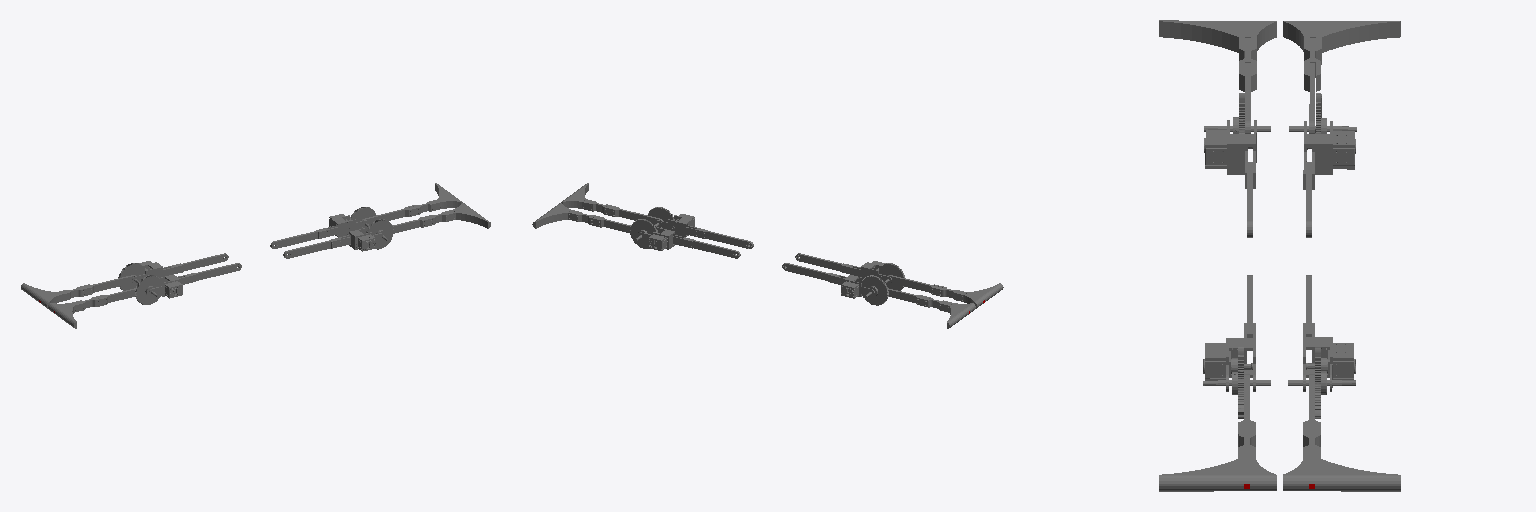
URDF robot description (quadruped):
<?xml version ="1.0" encoding="utf-8"?>

<robot name="quadruped" >


  <link name="dummy">
  </link>

  <material name="gray">
    <color rgba="0.5 0.5 0.5 1.0"/>
  </material>

  <joint name="dummy_joint" type="fixed">
     <parent link="dummy"/>
     <child link="body"/>
  </joint>

  <link name="body">
    <inertial>
      <mass value="1" />
      <inertia ixx="1" ixy="0"  ixz="0"
               iyy="1" iyz="0"
               izz="1" />
    </inertial>
    <visual>
      <origin rpy="1.57 0 1.57" xyz="0 0 0"/>
      <geometry>
        <mesh filename="package://quadruped_description/meshes/frame_aluminum_motor_case.stl"/>
      </geometry>
      <material name="gray"/>
    </visual>
    <collision>
      <origin
        xyz="0 0 0"
        rpy="1.57 0 1.57" />
      <geometry>
        <mesh
          filename="package://quadruped_description/meshes/frame_aluminum_motor_case.stl" />
      </geometry>
    </collision>
  </link>

  <link name="front_left_u">
    <inertial>
      <mass value="1" />
      <inertia ixx="1" ixy="0"  ixz="0"
               iyy="1" iyz="0"
               izz="1" />
    </inertial>
    <visual>
      <origin rpy="1.57 0 1.57" xyz="0 0 0"/>
      <geometry>
        <mesh filename="package://quadruped_description/meshes/joint_gear_upper_assembly.stl"/>
      </geometry>
      <material name="gray"/>
    </visual>
    <collision>
      <origin
        xyz="0 0 0"
        rpy="1.57 0 1.57" />
      <geometry>
        <mesh
          filename="package://quadruped_description/meshes/joint_gear_upper_assembly.stl" />
      </geometry>
    </collision>
  </link>

  <link name="front_right_u">
    <inertial>
      <mass value="1" />
      <inertia ixx="1" ixy="0"  ixz="0"
               iyy="1" iyz="0"
               izz="1" />
    </inertial>
    <visual>
      <origin rpy="1.57 3.14 1.57" xyz="0 0 0"/>
      <geometry>
        <mesh filename="package://quadruped_description/meshes/joint_gear_upper_assembly.stl"/>
      </geometry>
      <material name="gray"/>
    </visual>
    <collision>
      <origin
        xyz="0 0 0"
        rpy="1.57 3.14 1.57" />
      <geometry>
        <mesh
          filename="package://quadruped_description/meshes/joint_gear_upper_assembly.stl" />
      </geometry>
    </collision>
  </link>

  <link name="back_left_u">
    <inertial>
      <mass value="1" />
      <inertia ixx="1" ixy="0"  ixz="0"
               iyy="1" iyz="0"
               izz="1" />
    </inertial>
    <visual>
      <origin rpy="1.57 3.14 1.57" xyz="0 0 0"/>
      <geometry>
        <mesh filename="package://quadruped_description/meshes/joint_gear_upper_assembly.stl"/>
      </geometry>
      <material name="gray"/>
    </visual>
    <collision>
      <origin
        xyz="0 0 0"
        rpy="1.57 3.14 1.57" />
      <geometry>
        <mesh
          filename="package://quadruped_description/meshes/joint_gear_upper_assembly.stl" />
      </geometry>
    </collision>
  </link>

  <link name="back_right_u">
    <inertial>
      <mass value="1" />
      <inertia ixx="1" ixy="0"  ixz="0"
               iyy="1" iyz="0"
               izz="1" />
    </inertial>
    <visual>
      <origin rpy="1.57 0 1.57" xyz="0 0 0"/>
      <geometry>
        <mesh filename="package://quadruped_description/meshes/joint_gear_upper_assembly.stl"/>
      </geometry>
      <material name="gray"/>
    </visual>
    <collision>
      <origin
        xyz="0 0 0"
        rpy="1.57 0 1.57" />
      <geometry>
        <mesh
          filename="package://quadruped_description/meshes/joint_gear_upper_assembly.stl" />
      </geometry>
    </collision>
  </link>

  <link name="front_left_d">
    <inertial>
      <mass value="1" />
      <inertia ixx="1" ixy="0"  ixz="0"
               iyy="1" iyz="0"
               izz="1" />
    </inertial>
    <visual>
      <origin rpy="1.57 0 1.57" xyz="0 0 0"/>
      <geometry>
        <mesh filename="package://quadruped_description/meshes/Assembly_lower_link_v2.stl"/>
      </geometry>
      <material name="gray"/>
    </visual>
    <collision>
      <origin
        xyz="0 0 0"
        rpy="1.57 0 1.57" />
      <geometry>
        <mesh
          filename="package://quadruped_description/meshes/Assembly_lower_link_v2.stl" />
      </geometry>
    </collision>
  </link>
  <joint name="front_left_foot" type="fixed">
    <origin rpy="0 0 0" xyz="0.41 0 0"/>
    <parent link="front_left_d"/>
    <child link="front_left_foot"/>
  </joint>
  <link name="front_left_foot">
    <visual>
      <origin rpy="0 0 0" xyz="0 0 0"/>
      <geometry>
        <box size="0.01 0.01 0.01"/>
      </geometry>
      <material name="">
        <color rgba="0.8 0.0 0.0 1.0"/>
      </material>
    </visual>
    <inertial>
      <origin rpy="0 0 0" xyz="0.0 0.0 0.0"/>
      <mass value="0.001"/>
      <inertia ixx="1.0e-06" ixy="0.0" ixz="0.0" iyy="1.0e-06" iyz="0.0" izz="1.0e-06"/>
    </inertial>
  </link>



  <link name="front_right_d">
    <inertial>
      <mass value="1" />
      <inertia ixx="1" ixy="0"  ixz="0"
               iyy="1" iyz="0"
               izz="1" />
    </inertial>
    <visual>
      <origin rpy="-1.57 0 -1.57" xyz="0 0 0"/>
      <geometry>
        <mesh filename="package://quadruped_description/meshes/Assembly_lower_link_v2.stl"/>
      </geometry>
      <material name="gray"/>
    </visual>
    <collision>
      <origin
        xyz="0 0 0"
        rpy="-1.57 0 -1.57" />
      <geometry>
        <mesh
          filename="package://quadruped_description/meshes/Assembly_lower_link_v2.stl" />
      </geometry>
    </collision>
  </link>
  <joint name="front_right_foot" type="fixed">
    <origin rpy="0 0 0" xyz="0.41 0 0"/>
    <parent link="front_right_d"/>
    <child link="front_right_foot"/>
  </joint>
  <link name="front_right_foot">
    <visual>
      <origin rpy="0 0 0" xyz="0 0 0"/>
      <geometry>
        <box size="0.01 0.01 0.01"/>
      </geometry>
      <material name="">
        <color rgba="0.8 0.0 0.0 1.0"/>
      </material>
    </visual>
    <inertial>
      <origin rpy="0 0 0" xyz="0.0 0.0 0.0"/>
      <mass value="0.001"/>
      <inertia ixx="1.0e-06" ixy="0.0" ixz="0.0" iyy="1.0e-06" iyz="0.0" izz="1.0e-06"/>
    </inertial>
  </link>

  <link name="back_left_d">
    <inertial>
      <mass value="1" />
      <inertia ixx="1" ixy="0"  ixz="0"
               iyy="1" iyz="0"
               izz="1" />
    </inertial>
    <visual>
      <origin rpy="-1.57 0 -1.57" xyz="0 0 0"/>
      <geometry>
        <mesh filename="package://quadruped_description/meshes/Assembly_lower_link_v2.stl"/>
      </geometry>
      <material name="gray"/>
    </visual>
    <collision>
      <origin
        xyz="0 0 0"
        rpy="-1.57 0 -1.57" />
      <geometry>
        <mesh
          filename="package://quadruped_description/meshes/Assembly_lower_link_v2.stl" />
      </geometry>
    </collision>
  </link>
  <joint name="back_left_foot" type="fixed">
    <origin rpy="0 0 0" xyz="0.41 0 0"/>
    <parent link="back_left_d"/>
    <child link="back_left_foot"/>
  </joint>
  <link name="back_left_foot">
    <visual>
      <origin rpy="0 0 0" xyz="0 0 0"/>
      <geometry>
        <box size="0.01 0.01 0.01"/>
      </geometry>
      <material name="">
        <color rgba="0.8 0.0 0.0 1.0"/>
      </material>
    </visual>
    <inertial>
      <origin rpy="0 0 0" xyz="0.0 0.0 0.0"/>
      <mass value="0.001"/>
      <inertia ixx="1.0e-06" ixy="0.0" ixz="0.0" iyy="1.0e-06" iyz="0.0" izz="1.0e-06"/>
    </inertial>
  </link>

  <link name="back_right_d">
    <inertial>
      <mass value="1" />
      <inertia ixx="1" ixy="0"  ixz="0"
               iyy="1" iyz="0"
               izz="1" />
    </inertial>
    <visual>
      <origin rpy="1.57 0 1.57" xyz="0 0 0"/>
      <geometry>
        <mesh filename="package://quadruped_description/meshes/Assembly_lower_link_v2.stl"/>
      </geometry>
      <material name="gray"/>
    </visual>
    <collision>
      <origin
        xyz="0 0 0"
        rpy="1.57 0 1.57" />
      <geometry>
        <mesh
          filename="package://quadruped_description/meshes/Assembly_lower_link_v2.stl" />
      </geometry>
    </collision>
  </link>
  <joint name="back_right_foot" type="fixed">
    <origin rpy="0 0 0" xyz="0.41 0 0"/>
    <parent link="back_right_d"/>
    <child link="back_right_foot"/>
  </joint>
  <link name="back_right_foot">
    <visual>
      <origin rpy="0 0 0" xyz="0 0 0"/>
      <geometry>
        <box size="0.01 0.01 0.01"/>
      </geometry>
      <material name="">
        <color rgba="0.8 0.0 0.0 1.0"/>
      </material>
    </visual>
    <inertial>
      <origin rpy="0 0 0" xyz="0.0 0.0 0.0"/>
      <mass value="0.001"/>
      <inertia ixx="1.0e-06" ixy="0.0" ixz="0.0" iyy="1.0e-06" iyz="0.0" izz="1.0e-06"/>
    </inertial>
  </link>

  <joint name="front_left_joint1" type="revolute">
    <limit effort="1000.0" lower="-3.14" upper="3.14" velocity="0.5"/>
    <parent link="body"/>
    <child link="front_left_u"/>
    <origin xyz="0.11 0.05 0" rpy="0 0 0" />
    <axis xyz="0 1 0" />
  </joint>

  <joint name="front_right_joint1" type="revolute">
    <limit effort="1000.0" lower="-3.14" upper="3.14" velocity="0.5"/>
    <parent link="body"/>
    <child link="front_right_u"/>
    <origin xyz="0.11 -0.05 0" rpy="0 0 0" />
    <axis xyz="0 1 0" />
  </joint>

  <joint name="back_left_joint1" type="revolute">
    <limit effort="1000.0" lower="-3.14" upper="3.14" velocity="0.5"/>
    <parent link="body"/>
    <child link="back_left_u"/>
    <origin xyz="-0.11 0.05 0" rpy="0 0 3.14" />
    <axis xyz="0 1 0" />
  </joint>

  <joint name="back_right_joint1" type="revolute">
    <limit effort="1000.0" lower="-3.14" upper="3.14" velocity="0.5"/>
    <parent link="body"/>
    <child link="back_right_u"/>
    <origin xyz="-0.11 -0.05 0" rpy="0 0 3.14" />
    <axis xyz="0 1 0" />
  </joint>

  <joint name="front_left_joint2" type="revolute">
    <limit effort="1000.0" lower="-3.14" upper="3.14" velocity="0.5"/>
    <parent link="front_left_u"/>
    <child link="front_left_d"/>
    <origin xyz="0.4 0.005 0" rpy="0 0 0" />
    <axis xyz="0 1 0" />
  </joint>

  <joint name="front_right_joint2" type="revolute">
    <limit effort="1000.0" lower="-3.14" upper="3.14" velocity="0.5"/>
    <parent link="front_right_u"/>
    <child link="front_right_d"/>
    <origin xyz="0.4 -0.005 0" rpy="0 0 0" />
    <axis xyz="0 1 0" />
  </joint>

  <joint name="back_left_joint2" type="revolute">
    <limit effort="1000.0" lower="-3.14" upper="3.14" velocity="0.5"/>
    <parent link="back_left_u"/>
    <child link="back_left_d"/>
    <origin xyz="0.4 -0.005 0" rpy="0 0 0" />
    <axis xyz="0 1 0" />
  </joint>

  <joint name="back_right_joint2" type="revolute">
    <limit effort="1000.0" lower="-3.14" upper="3.14" velocity="0.5"/>
    <parent link="back_right_u"/>
    <child link="back_right_d"/>
    <origin xyz="0.4 0.005 0" rpy="0 0 0" />
    <axis xyz="0 1 0" />
  </joint>

  <!-- <joint name="front_right_joint1" type="revolute">
    <limit effort="1000.0" lower="-3.14" upper="3.14" velocity="0.5"/>
    <parent link="body"/>
    <child link="front_left_u"/>
    <origin xyz="0.11 0.05 0" rpy="0 0 0" />
    <axis xyz="0 1 0" />
  </joint>

  <joint name="front_left_joint1" type="revolute">
    <limit effort="1000.0" lower="-3.14" upper="3.14" velocity="0.5"/>
    <parent link="body"/>
    <child link="front_right_u"/>
    <origin xyz="0.11 -0.05 0" rpy="0 0 0" />
    <axis xyz="0 1 0" />
  </joint>

  <joint name="back_left_joint1" type="revolute">
    <limit effort="1000.0" lower="-3.14" upper="3.14" velocity="0.5"/>
    <parent link="body"/>
    <child link="back_left_u"/>
    <origin xyz="-0.11 0.05 0" rpy="0 0 3.14" />
    <axis xyz="0 1 0" />
  </joint>

  <joint name="back_right_joint1" type="revolute">
    <limit effort="1000.0" lower="-3.14" upper="3.14" velocity="0.5"/>
    <parent link="body"/>
    <child link="back_right_u"/>
    <origin xyz="-0.11 -0.05 0" rpy="0 0 3.14" />
    <axis xyz="0 1 0" />
  </joint>

  <joint name="front_right_joint2" type="revolute">
    <limit effort="1000.0" lower="-3.14" upper="3.14" velocity="0.5"/>
    <parent link="front_left_u"/>
    <child link="front_left_d"/>
    <origin xyz="0.4 0.005 0" rpy="0 0 0" />
    <axis xyz="0 1 0" />
  </joint>

  <joint name="front_left_joint2" type="revolute">
    <limit effort="1000.0" lower="-3.14" upper="3.14" velocity="0.5"/>
    <parent link="front_right_u"/>
    <child link="front_right_d"/>
    <origin xyz="0.4 -0.005 0" rpy="0 0 0" />
    <axis xyz="0 1 0" />
  </joint>

  <joint name="back_left_joint2" type="revolute">
    <limit effort="1000.0" lower="-3.14" upper="3.14" velocity="0.5"/>
    <parent link="back_left_u"/>
    <child link="back_left_d"/>
    <origin xyz="0.4 -0.005 0" rpy="0 0 0" />
    <axis xyz="0 1 0" />
  </joint>

  <joint name="back_right_joint2" type="revolute">
    <limit effort="1000.0" lower="-3.14" upper="3.14" velocity="0.5"/>
    <parent link="back_right_u"/>
    <child link="back_right_d"/>
    <origin xyz="0.4 0.005 0" rpy="0 0 0" />
    <axis xyz="0 1 0" />
  </joint> -->

  <!-- ///////////////////////////////////////////////////////////////////////////////////////////////////////////////////// -->
  <!-- Transmissions for ROS Control -->

  <transmission name="tran1">
    <type>transmission_interface/SimpleTransmission</type>
    <joint name="front_right_joint1">
      <hardwareInterface>hardware_interface/PositionJointInterface</hardwareInterface>
    </joint>
    <actuator name="motor1">
      <hardwareInterface>hardware_interface/PositionJointInterface</hardwareInterface>
      <mechanicalReduction>1</mechanicalReduction>
    </actuator>
  </transmission>
  
  <transmission name="tran2">
    <type>transmission_interface/SimpleTransmission</type>
    <joint name="front_left_joint1">
      <hardwareInterface>hardware_interface/PositionJointInterface</hardwareInterface>
    </joint>
    <actuator name="motor2">
      <hardwareInterface>hardware_interface/PositionJointInterface</hardwareInterface>
      <mechanicalReduction>1</mechanicalReduction>
    </actuator>
  </transmission>

  <transmission name="tran3">
    <type>transmission_interface/SimpleTransmission</type>
    <joint name="back_left_joint1">
      <hardwareInterface>hardware_interface/PositionJointInterface</hardwareInterface>
    </joint>
    <actuator name="motor3">
      <hardwareInterface>hardware_interface/PositionJointInterface</hardwareInterface>
      <mechanicalReduction>1</mechanicalReduction>
    </actuator>
  </transmission>

  <transmission name="tran4">
    <type>transmission_interface/SimpleTransmission</type>
    <joint name="back_right_joint1">
      <hardwareInterface>hardware_interface/PositionJointInterface</hardwareInterface>
    </joint>
    <actuator name="motor4">
      <hardwareInterface>hardware_interface/PositionJointInterface</hardwareInterface>
      <mechanicalReduction>1</mechanicalReduction>
    </actuator>
  </transmission>

  <transmission name="tran5">
    <type>transmission_interface/SimpleTransmission</type>
    <joint name="front_right_joint2">
      <hardwareInterface>hardware_interface/PositionJointInterface</hardwareInterface>
    </joint>
    <actuator name="motor5">
      <hardwareInterface>hardware_interface/PositionJointInterface</hardwareInterface>
      <mechanicalReduction>1</mechanicalReduction>
    </actuator>
  </transmission>

  <transmission name="tran6">
    <type>transmission_interface/SimpleTransmission</type>
    <joint name="front_left_joint2">
      <hardwareInterface>hardware_interface/PositionJointInterface</hardwareInterface>
    </joint>
    <actuator name="motor6">
      <hardwareInterface>hardware_interface/PositionJointInterface</hardwareInterface>
      <mechanicalReduction>1</mechanicalReduction>
    </actuator>
  </transmission>

  <transmission name="tran7">
    <type>transmission_interface/SimpleTransmission</type>
    <joint name="back_left_joint2">
      <hardwareInterface>hardware_interface/PositionJointInterface</hardwareInterface>
    </joint>
    <actuator name="motor7">
      <hardwareInterface>hardware_interface/PositionJointInterface</hardwareInterface>
      <mechanicalReduction>1</mechanicalReduction>
    </actuator>
  </transmission>

  <transmission name="tran8">
    <type>transmission_interface/SimpleTransmission</type>
    <joint name="back_right_joint2">
      <hardwareInterface>hardware_interface/PositionJointInterface</hardwareInterface>
    </joint>
    <actuator name="motor8">
      <hardwareInterface>hardware_interface/PositionJointInterface</hardwareInterface>
      <mechanicalReduction>1</mechanicalReduction>
    </actuator>
  </transmission>

  <!-- ros_control plugin -->
  <gazebo>
    <plugin name="gazebo_ros_control" filename="libgazebo_ros_control.so">
      <robotNamespace>/quadruped</robotNamespace>
    </plugin>
  </gazebo>



</robot>

--- Facts derived from the render (not from the file) ---
3 views of the same robot in one strip: view 1: azimuth 30°, elevation 25°; view 2: azimuth 150°, elevation 25°; view 3: azimuth 270°, elevation 25° (orthographic).
Robot: quadruped — 14 links, 13 joints (8 revolute, 5 fixed); root link dummy; default pose: all joints at 0.
Links seen in each view (by area): view 1: back_right_u, front_right_u, front_left_u, back_left_u, back_left_d, front_right_d, front_left_d, back_right_d; view 2: back_left_u, front_left_u, front_right_u, back_right_u, back_right_d, front_left_d, front_right_d, back_left_d; view 3: front_left_d, front_right_d, back_right_d, back_left_d, back_right_u, back_left_u, front_left_u, front_right_u.
Boxes of the visible links, box(x1,y1,x2,y2) form: back_right_u: box(135, 263, 241, 304); front_right_u: box(283, 219, 393, 258); front_left_u: box(270, 207, 376, 248); back_left_u: box(118, 253, 228, 290); back_left_d: box(21, 275, 139, 308); front_right_d: box(382, 203, 490, 238); front_left_d: box(361, 183, 462, 227); back_right_d: box(48, 288, 154, 328); back_left_u: box(782, 263, 888, 305); front_left_u: box(630, 219, 740, 258); front_right_u: box(648, 207, 753, 248); back_right_u: box(795, 253, 904, 290); back_right_d: box(884, 275, 1003, 308); front_left_d: box(532, 203, 641, 238); front_right_d: box(561, 183, 662, 226); back_left_d: box(869, 288, 975, 328); front_left_d: box(1283, 374, 1400, 491); front_right_d: box(1159, 374, 1276, 491); back_right_d: box(1159, 20, 1276, 133); back_left_d: box(1283, 21, 1400, 133); back_right_u: box(1204, 93, 1256, 237); back_left_u: box(1303, 93, 1356, 237); front_left_u: box(1303, 275, 1355, 418); front_right_u: box(1203, 275, 1255, 418).
Size in the robot's own frame: 1.85 by 0.4116 by 0.1227 metres.
Meshes: 3 distinct files referenced, 8 mesh visuals loaded (2 binary STL); not drawn: 1 (reference not matched to a file when rendering).
